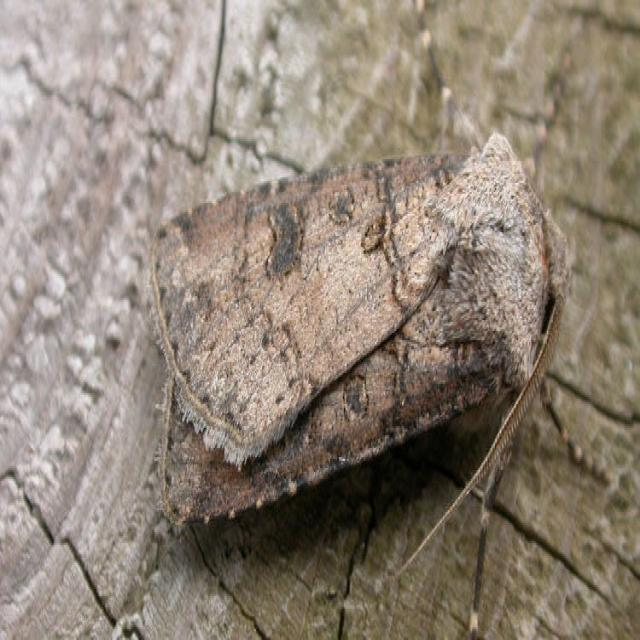Cutworm: (144, 132, 575, 564)
